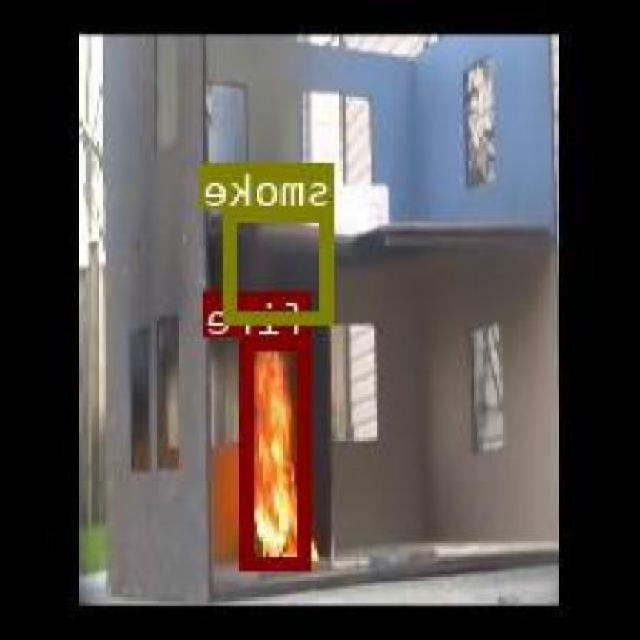Fire: (244, 334, 313, 568)
Smoke: (227, 205, 336, 321)
